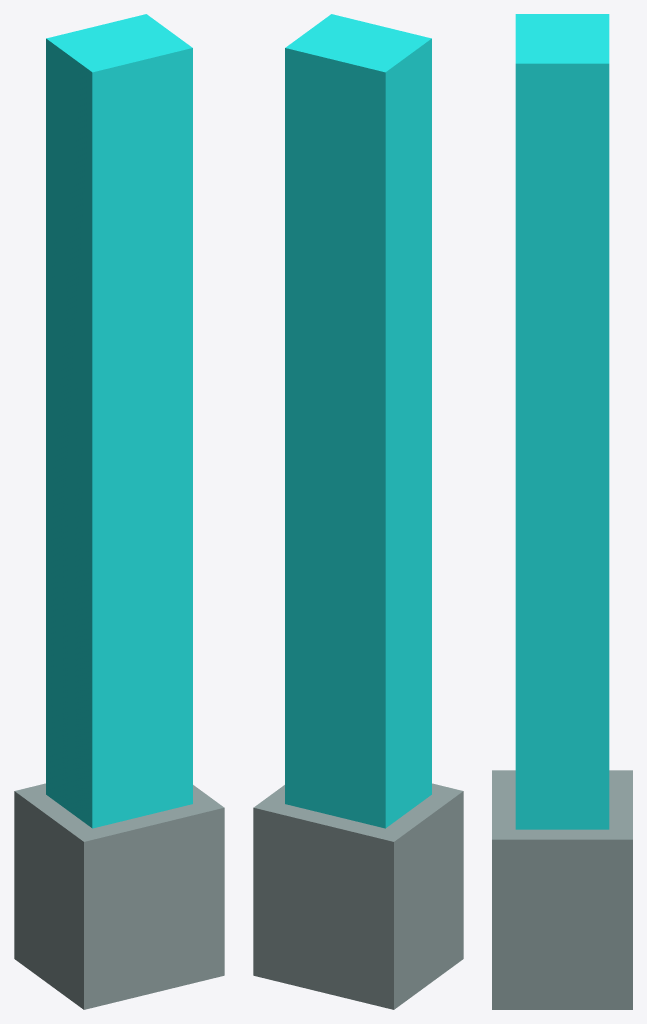
The model's file is blue_lightsword.fbx.
The picture shows the model from 3 angles, left to right: view 1: azimuth 30°, elevation 25°; view 2: azimuth 150°, elevation 25°; view 3: azimuth 270°, elevation 25°; orthographic projection.
Parts seen in each view (by area): view 1: cube_1, cube; view 2: cube_1, cube; view 3: cube_1, cube.
Part boxes in pixels (box(x1,y1,x2,y2)): cube_1: box(46, 14, 192, 828); cube: box(14, 783, 224, 1009); cube_1: box(285, 14, 431, 828); cube: box(253, 783, 463, 1009); cube_1: box(515, 14, 609, 829); cube: box(492, 770, 632, 1009).
Size of the model in its own units: 10.94 by 68.75 by 9.38.
1 material, 1 textured.
